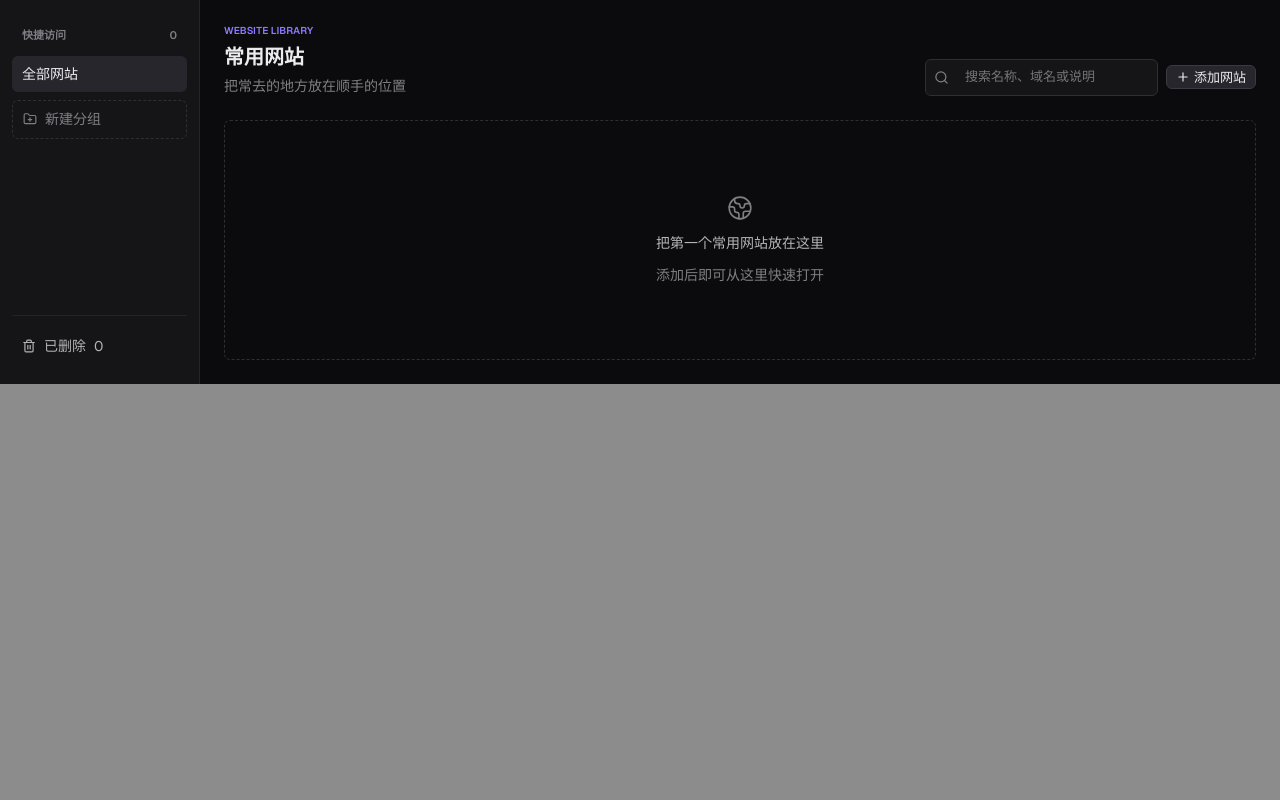
Test: WebsitePanel — add, find, open, recover › rejects a non-http URL before invoking persistence
Check: the text "把第一个常用网站放在这里" is shown, box x1=656 y1=232 x2=824 y2=253
Click the button "添加网站".
click(1211, 77)  # box x1=1166 y1=65 x2=1256 y2=89
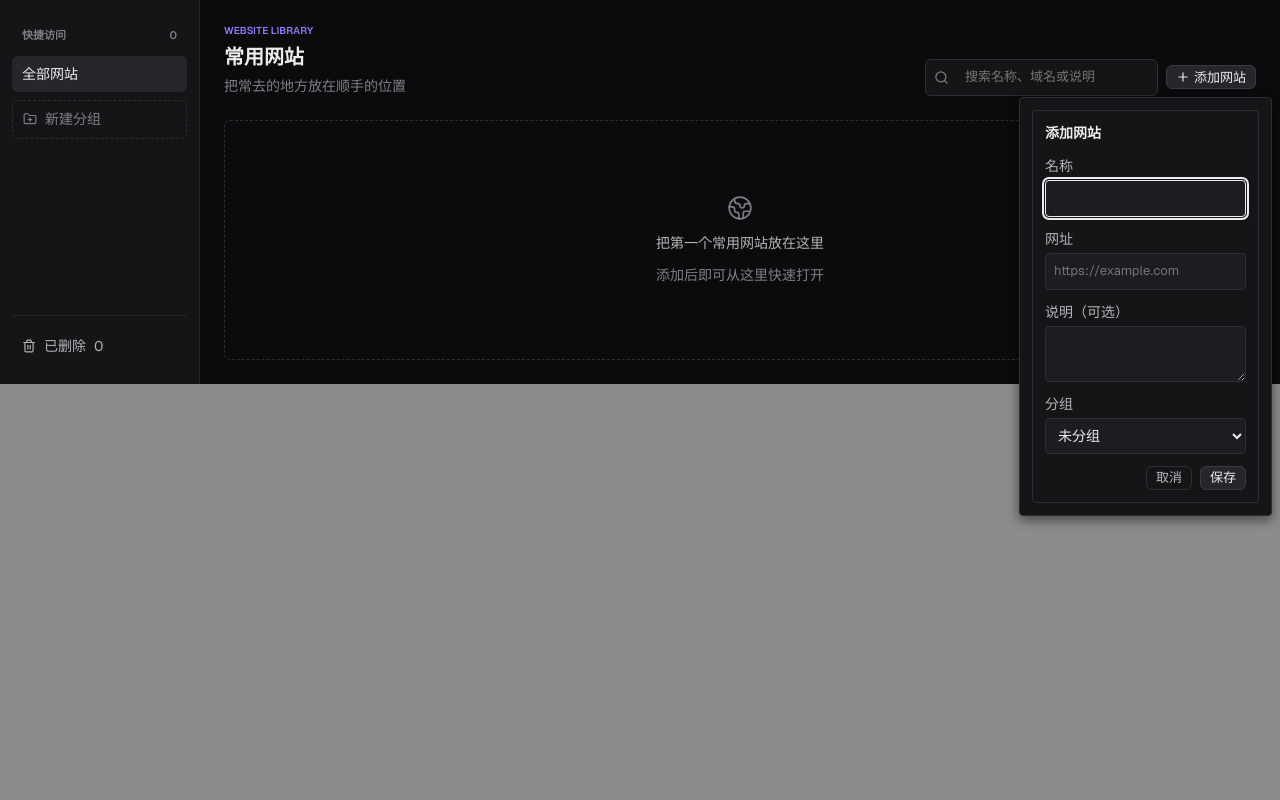
Type "危险" into the field labelled "名称".
click(1146, 198); type("危险")  # box x1=1045 y1=180 x2=1246 y2=217
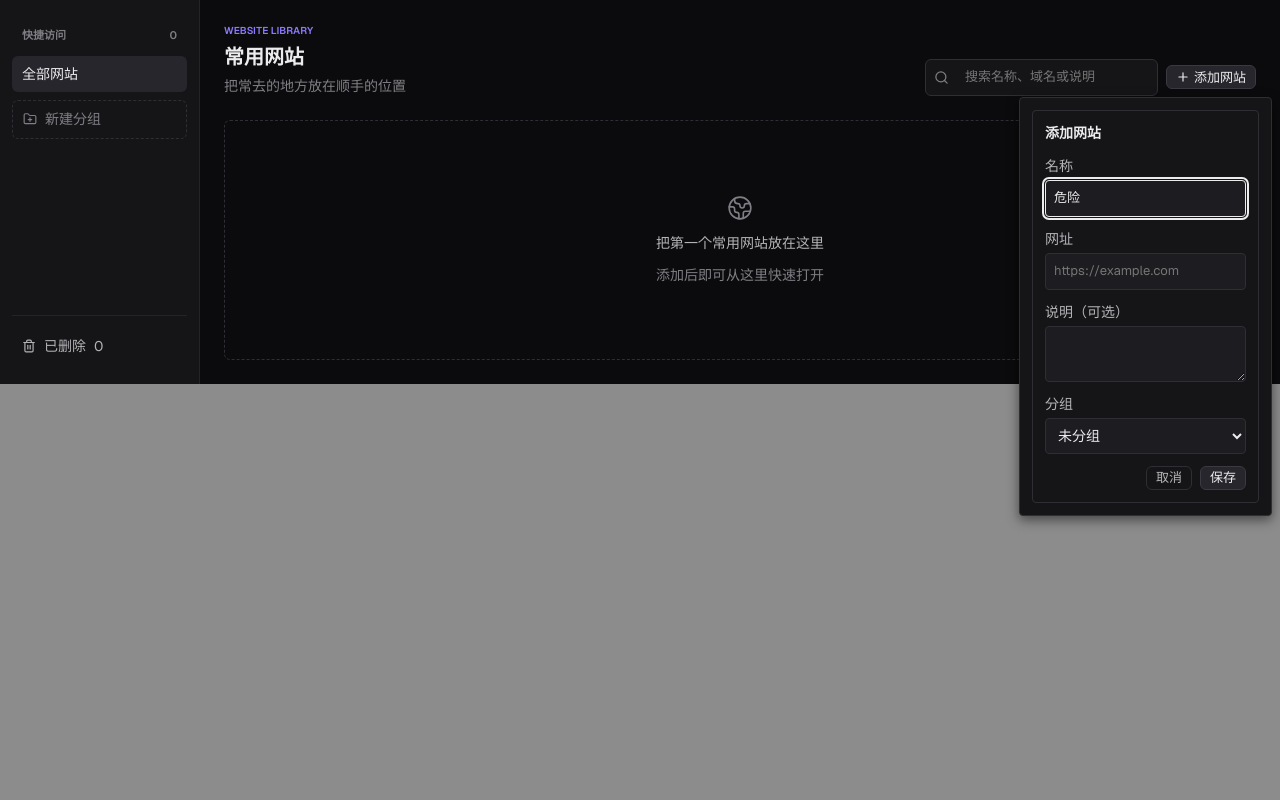
Type "javascript:alert(1)" into the field labelled "网址".
click(1146, 272); type("javascript:alert(1)")  # box x1=1045 y1=253 x2=1246 y2=290
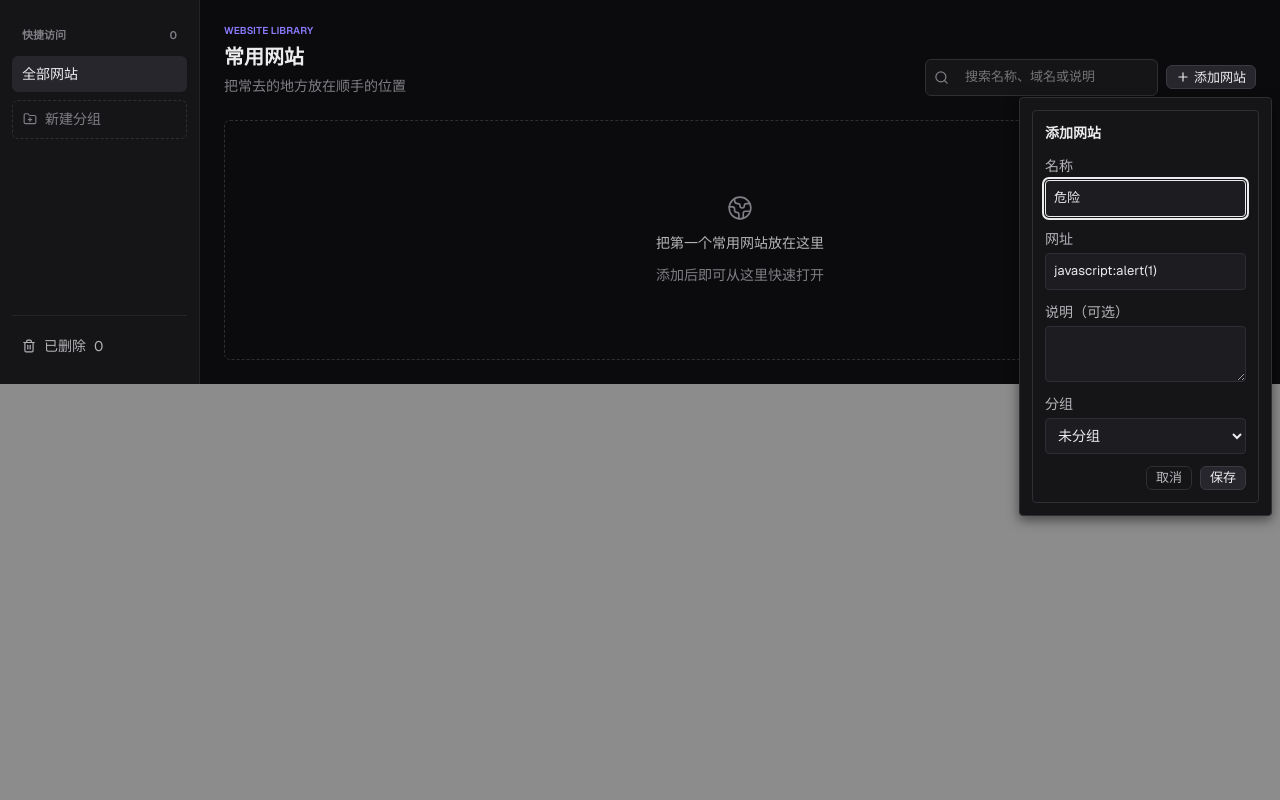
Click the button "保存".
click(1223, 478)  # box x1=1200 y1=466 x2=1246 y2=490
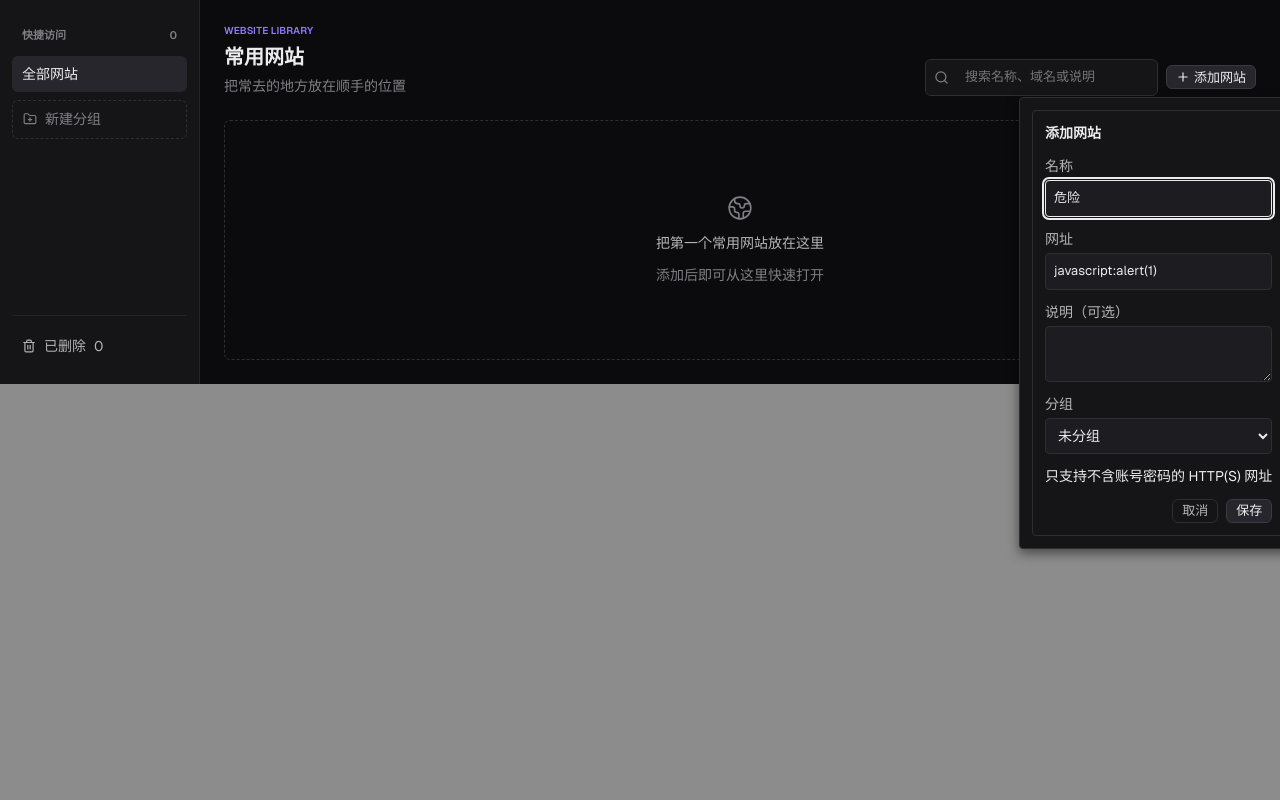
Check: the message shows "HTTP(S)", box x1=1045 y1=468 x2=1272 y2=484
